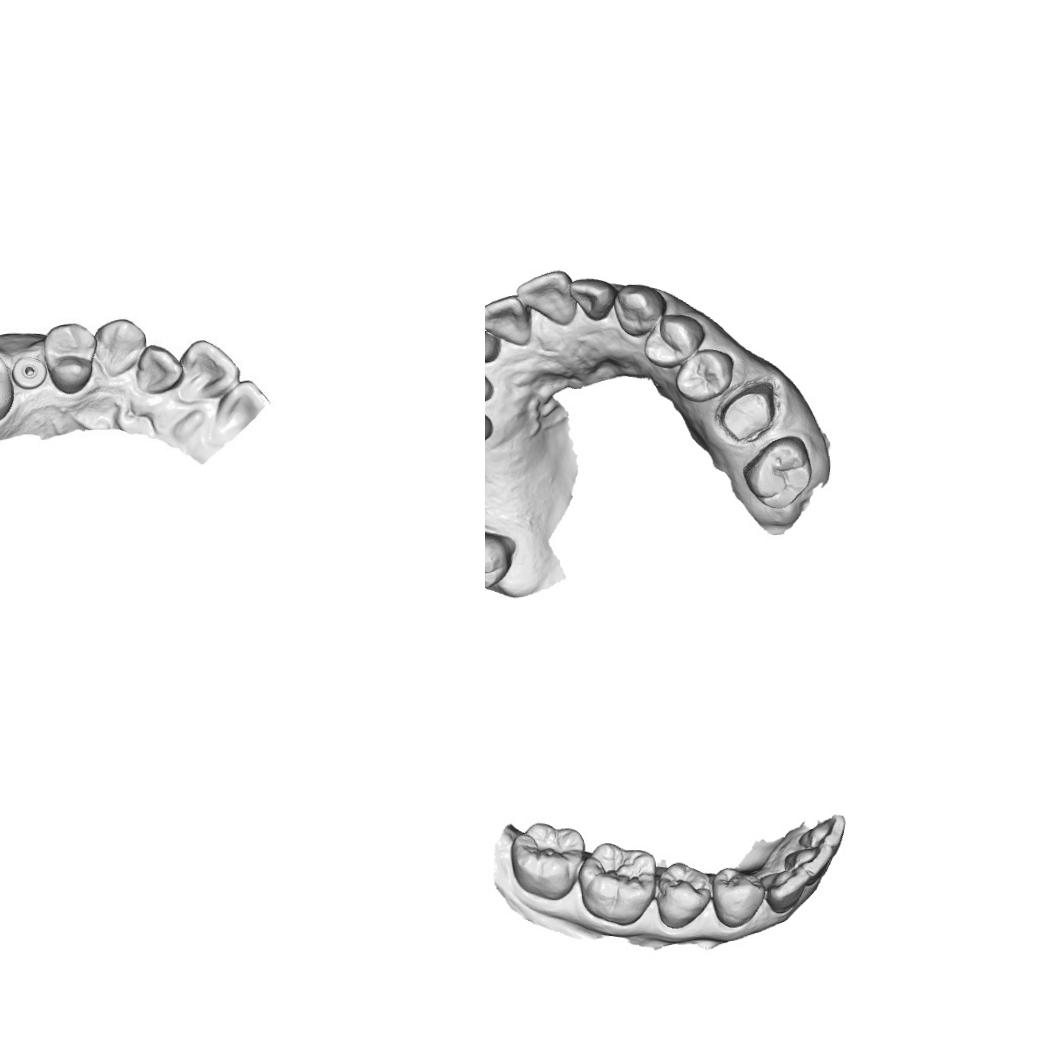canine: (642, 312, 706, 370), (93, 314, 148, 376)
crown: (715, 381, 780, 444)
implant: (10, 351, 48, 391)
incisor: (514, 268, 578, 328), (181, 336, 242, 396), (612, 282, 668, 337), (485, 292, 533, 348), (762, 865, 810, 916), (132, 344, 179, 396), (568, 276, 620, 322), (794, 810, 849, 849), (784, 842, 838, 880), (485, 329, 501, 364)
molar: (576, 838, 661, 929), (505, 819, 589, 903), (742, 435, 813, 512), (485, 524, 517, 590)
premolar: (650, 858, 714, 931), (46, 316, 100, 395), (708, 862, 768, 929), (673, 347, 735, 403)
